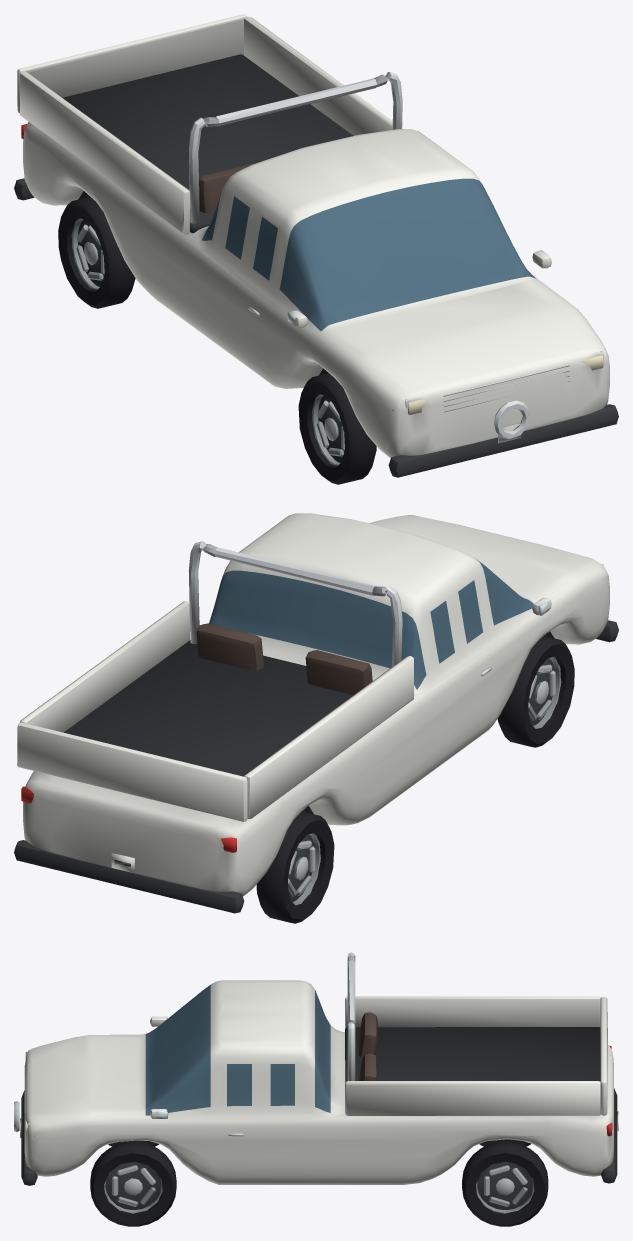
The model's file is veh-ute.glb.
The picture shows the model from 3 angles, top to bottom: view 1: azimuth 30°, elevation 25°; view 2: azimuth 150°, elevation 25°; view 3: azimuth 270°, elevation 25°; orthographic projection. The views are drawn at different scales.
Visible parts, largest first — view 1: body, wheel1, wheel3; view 2: body, wheel3, wheel1; view 3: body, wheel0, wheel2.
Boxes of the visible parts, <box> form: body: <box>14,14,618,477</box>; wheel1: <box>298,373,376,484</box>; wheel3: <box>58,196,135,308</box>; body: <box>14,513,618,913</box>; wheel3: <box>256,811,334,923</box>; wheel1: <box>497,636,574,747</box>; body: <box>14,952,618,1185</box>; wheel0: <box>90,1141,176,1226</box>; wheel2: <box>462,1141,548,1226</box>.
Bounding box in the file's own units: 1.78 × 1.7 × 4.72.
